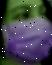with_mask: (1, 2, 52, 65)
